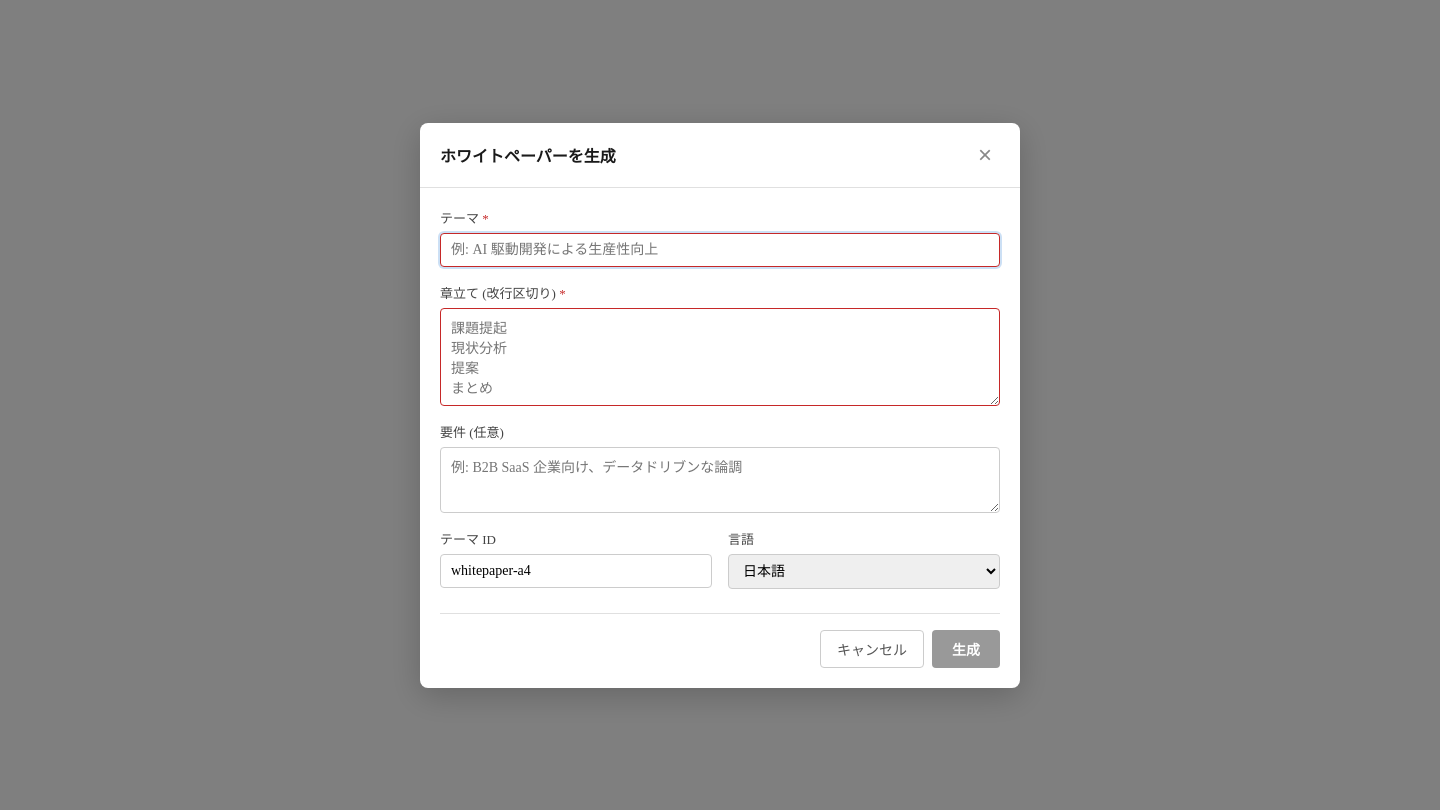
GenerateDialog - validation › enables submit when both theme and outline are valid
The image size is (1440, 810).
In the field with test id "theme-input": x=720, y=250 x1=440 y1=232 x2=1000 y2=266, type "Theme"
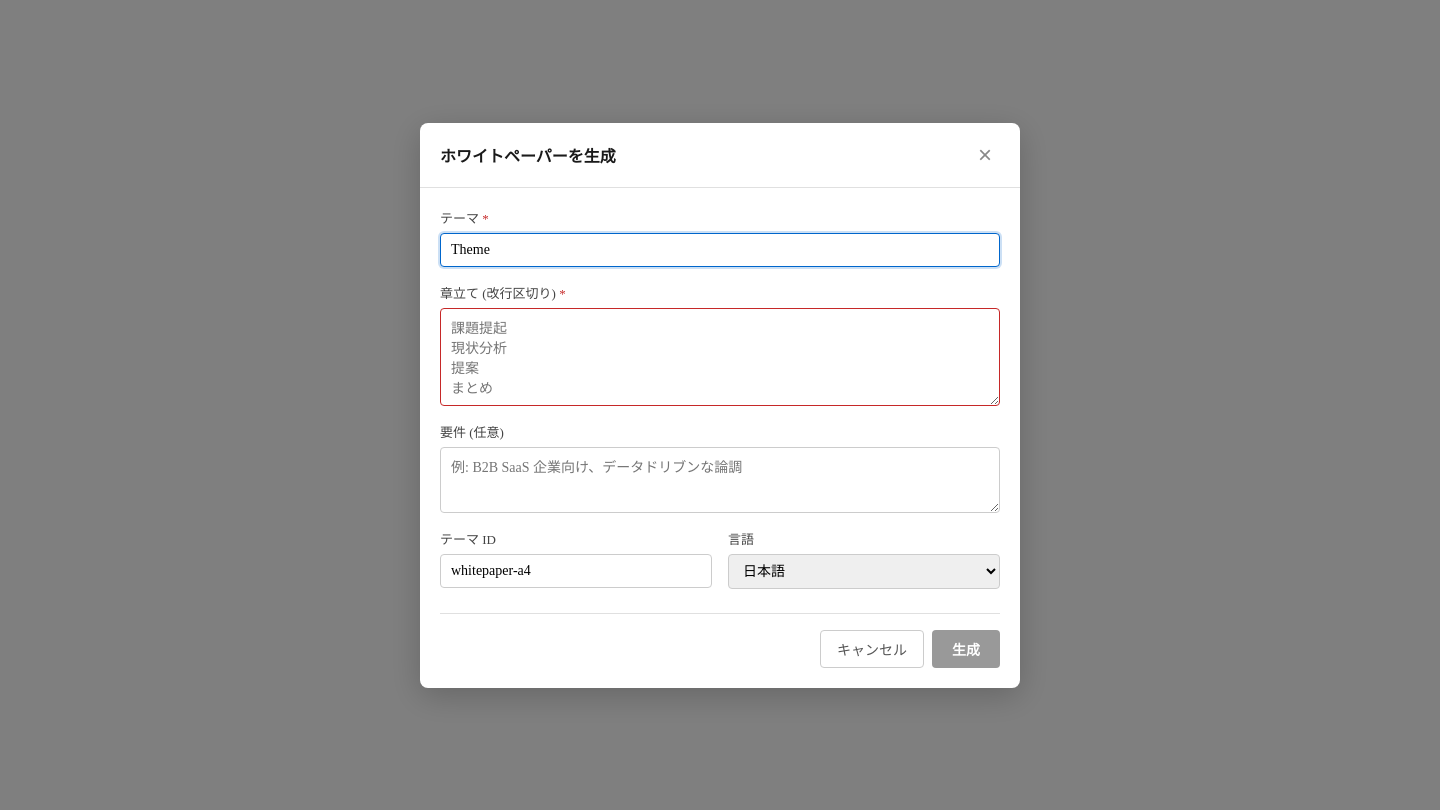
In the text box with test id "outline-input": x=720, y=356 x1=440 y1=308 x2=1000 y2=406, type "Chapter"
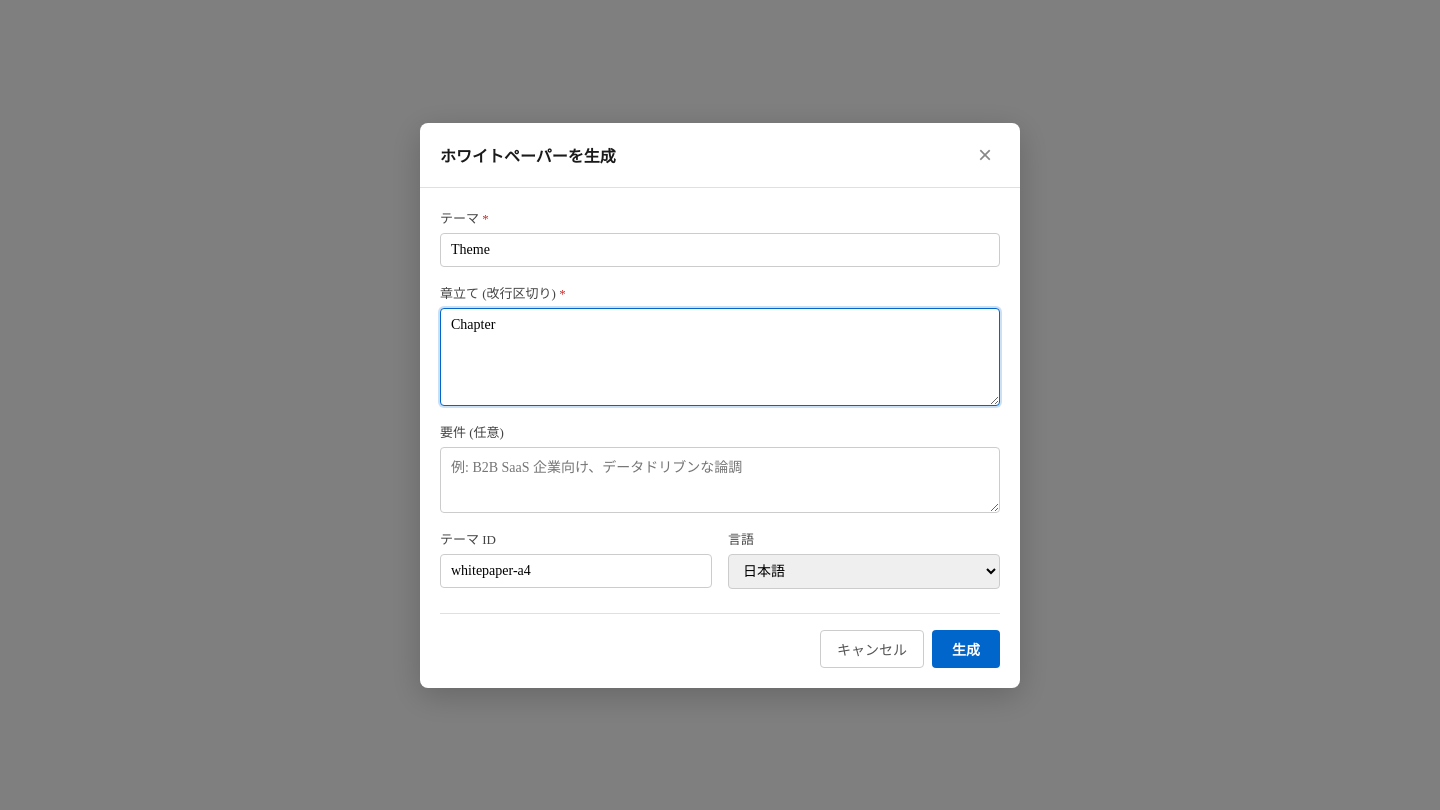
Now the button with aria-label "ホワイトペーパー生成を実行" is enabled, box x1=932 y1=630 x2=1000 y2=668
